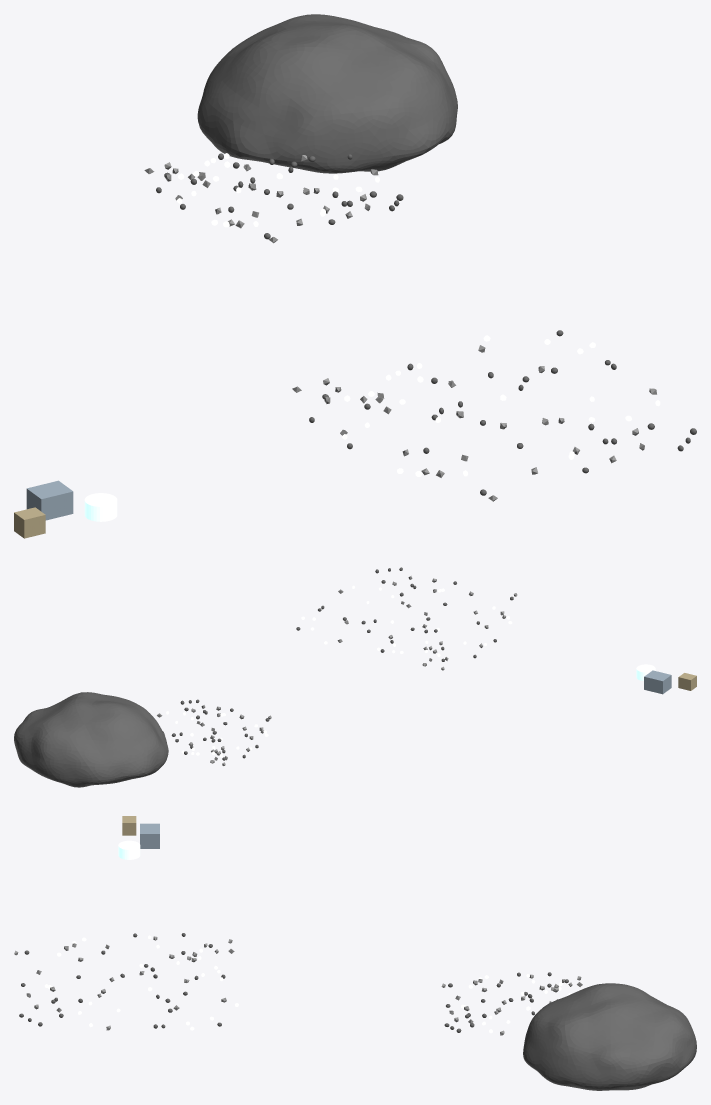
The model's file is Island_VolcanoIsle.fbx.
3 views of the same model, one above another, from view 1: azimuth 30°, elevation 25°; view 2: azimuth 150°, elevation 25°; view 3: azimuth 270°, elevation 25° (orthographic). The views are drawn at different scales.
Visible parts, largest first — view 1: TERRAIN_VolcanoIsle, LAB_BUILDING, HEALER_CENTER, SHOP_BUILDING; view 2: TERRAIN_VolcanoIsle, LAB_BUILDING; view 3: TERRAIN_VolcanoIsle, LAB_BUILDING.
Part boxes in pixels (x1=…): TERRAIN_VolcanoIsle: x1=197, y1=14, x2=457, y2=173; LAB_BUILDING: x1=26, y1=480, x2=73, y2=520; HEALER_CENTER: x1=84, y1=493, x2=117, y2=521; SHOP_BUILDING: x1=14, y1=507, x2=45, y2=538; TERRAIN_VolcanoIsle: x1=14, y1=692, x2=168, y2=787; LAB_BUILDING: x1=644, y1=670, x2=671, y2=694; TERRAIN_VolcanoIsle: x1=523, y1=983, x2=696, y2=1090; LAB_BUILDING: x1=140, y1=823, x2=159, y2=848.
Size of the model in its own units: 439 by 56.31 by 497.
